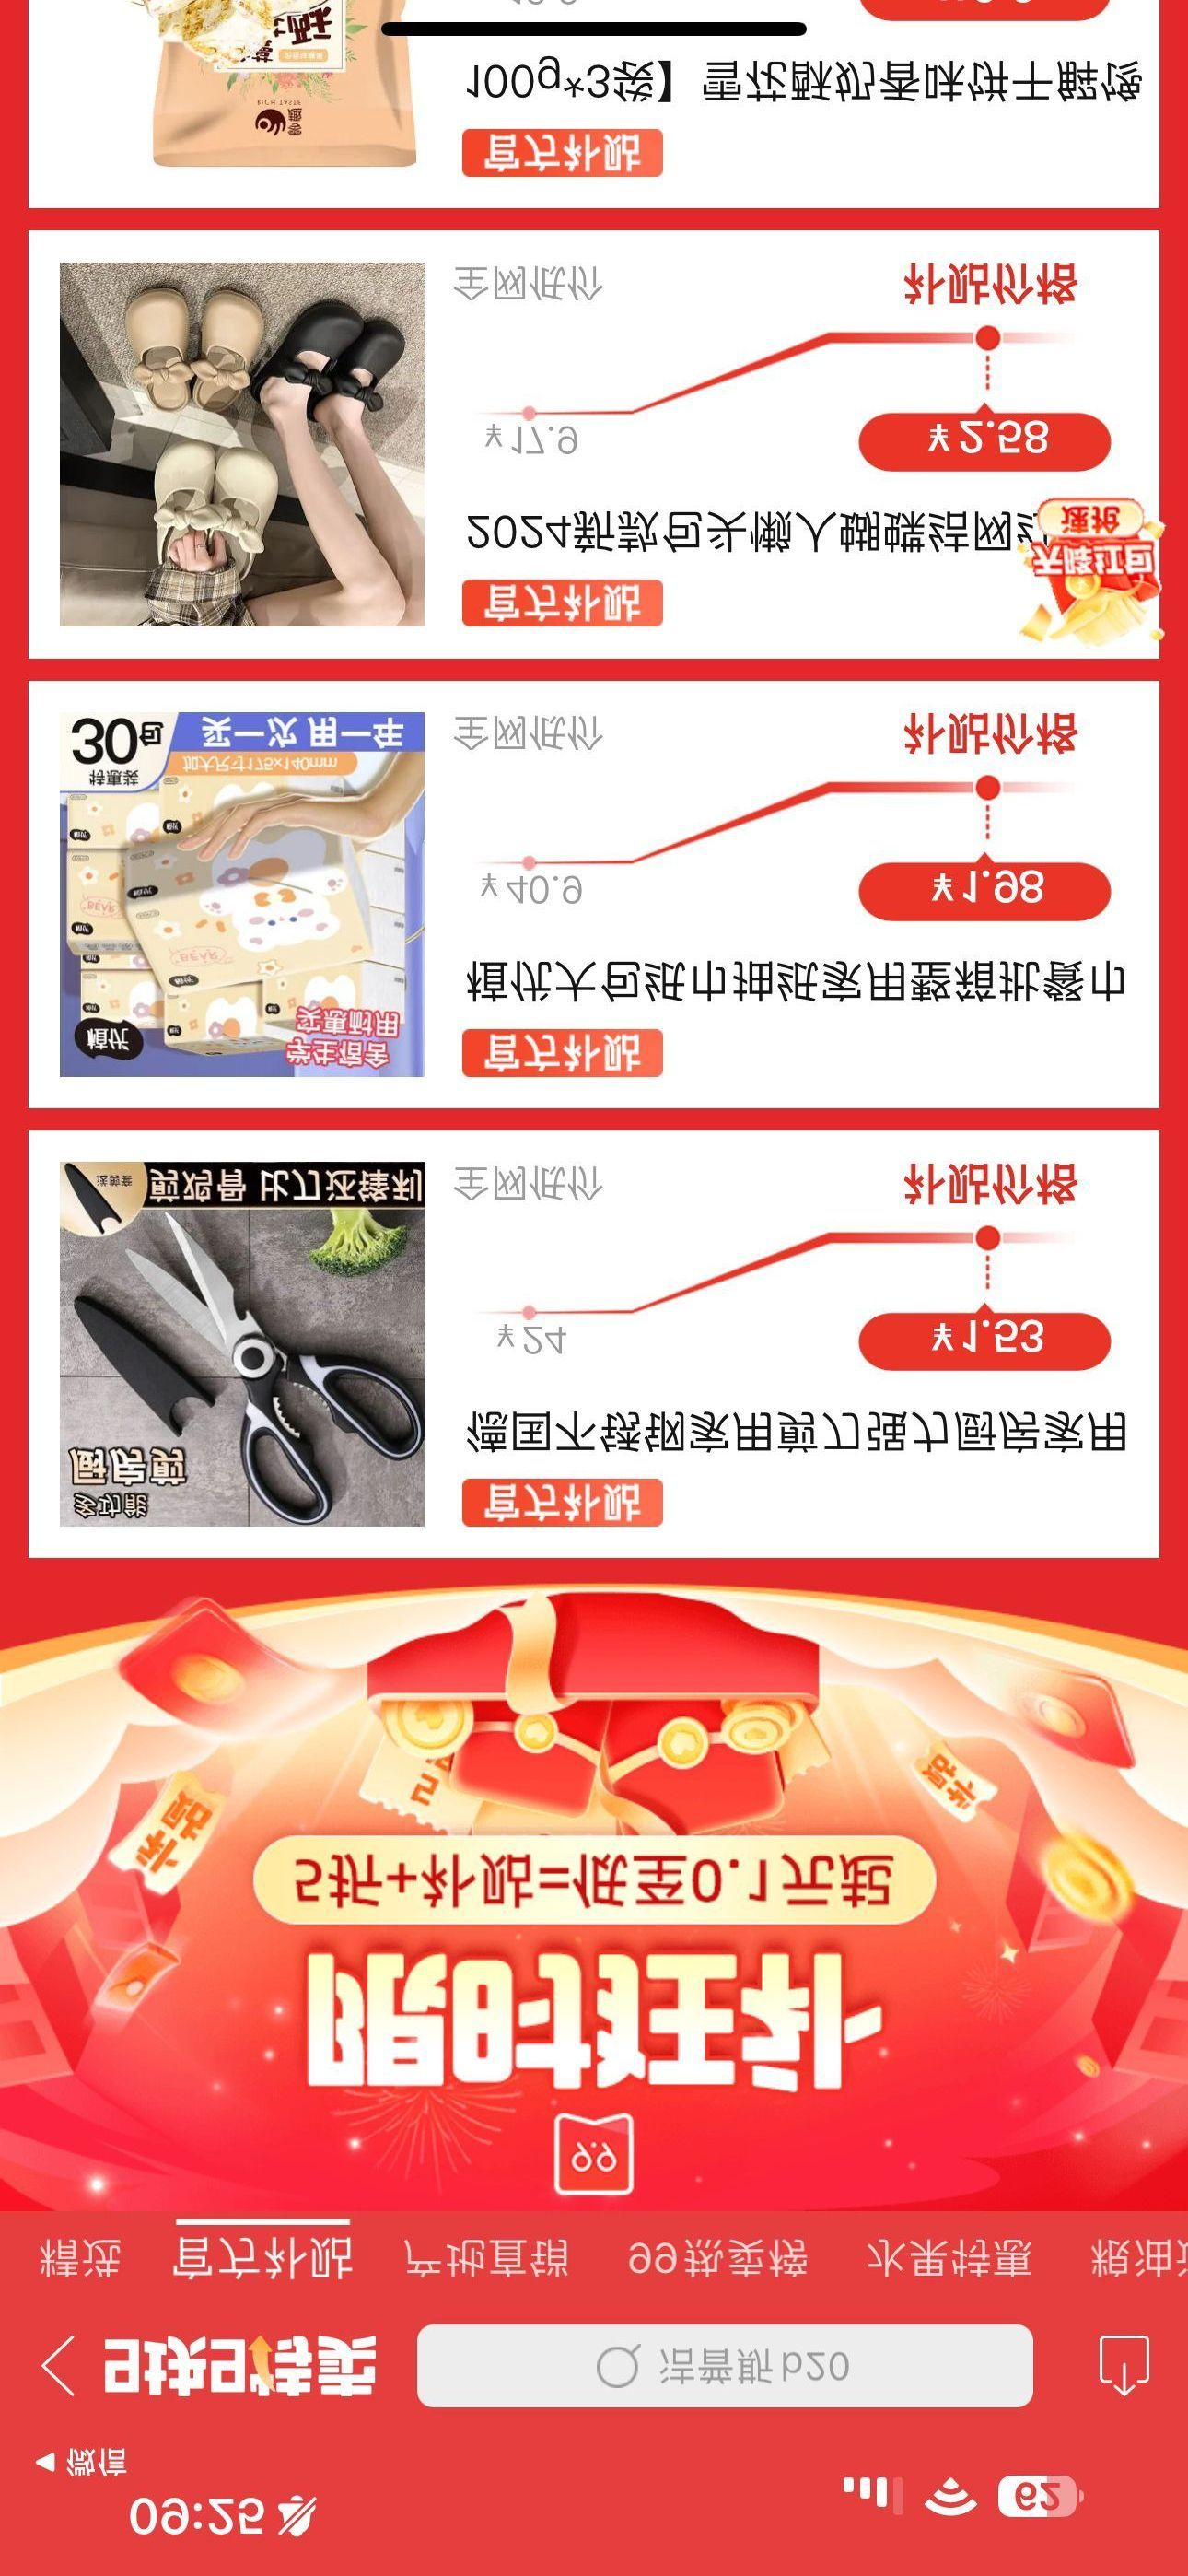item: (2, 1117, 1183, 1572), (2, 665, 1172, 1109), (5, 225, 1172, 664)
op_bar: (2, 2303, 1181, 2431)
